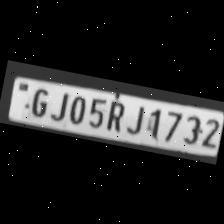0: (65, 90, 90, 126)
1: (143, 104, 165, 140)
2: (197, 113, 223, 149)
3: (178, 110, 204, 146)
5: (83, 93, 108, 129)
7: (158, 106, 183, 142)
G: (24, 82, 52, 118)
J: (124, 100, 148, 137), (46, 86, 70, 122)
R: (102, 96, 128, 133)
